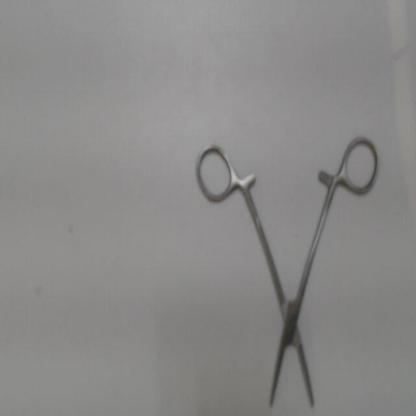Mayo Needle Holder: (190, 132, 386, 412)
